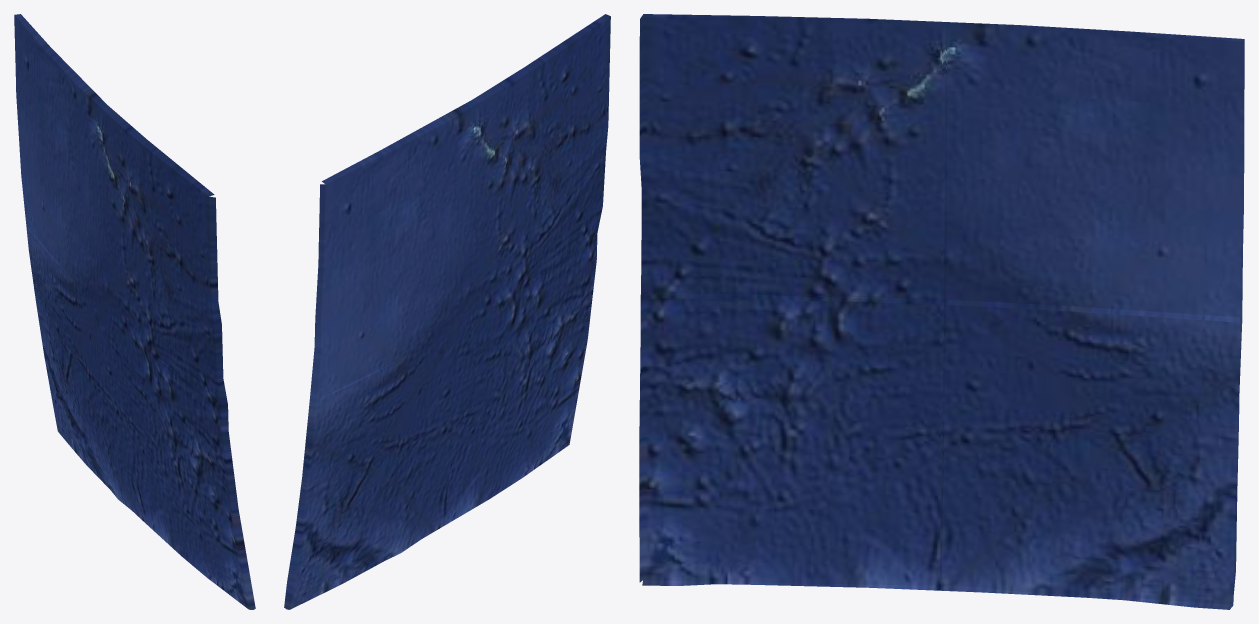
The picture shows the model from 3 angles, left to right: view 1: azimuth 30°, elevation 25°; view 2: azimuth 150°, elevation 25°; view 3: azimuth 270°, elevation 25°; orthographic projection. The views are drawn at different scales.
Bounding box in the file's own units: 260589 × 1251714 × 1258255.
Materials: 1 (1 with a texture image).
